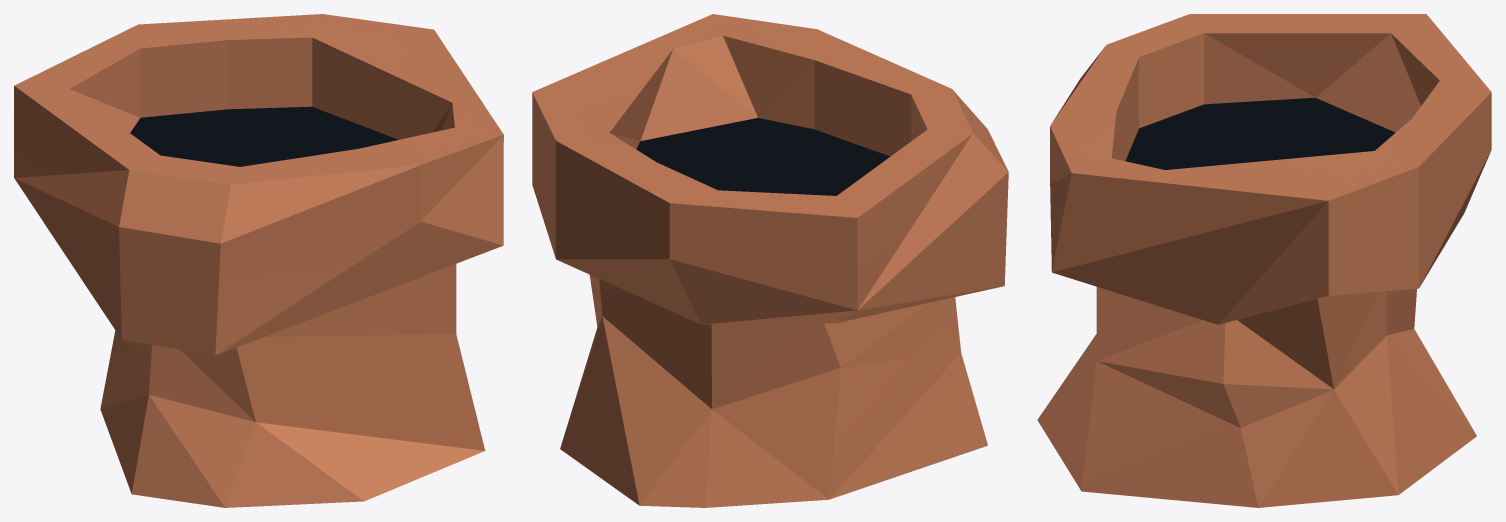
The model's file is Bag_3.fbx.
3 renders of one model, left to right at view 1: azimuth 30°, elevation 25°; view 2: azimuth 150°, elevation 25°; view 3: azimuth 270°, elevation 25°, orthographic. The views are drawn at different scales.
Visible parts, largest first — view 1: Bag_3; view 2: Bag_3; view 3: Bag_3.
Part boxes in pixels (x1,y1,x2,y2): Bag_3: (14,14,503,507); Bag_3: (532,14,1008,507); Bag_3: (1037,14,1491,507).
Bounding box in the file's own units: 16.24 × 12.42 × 15.72.
